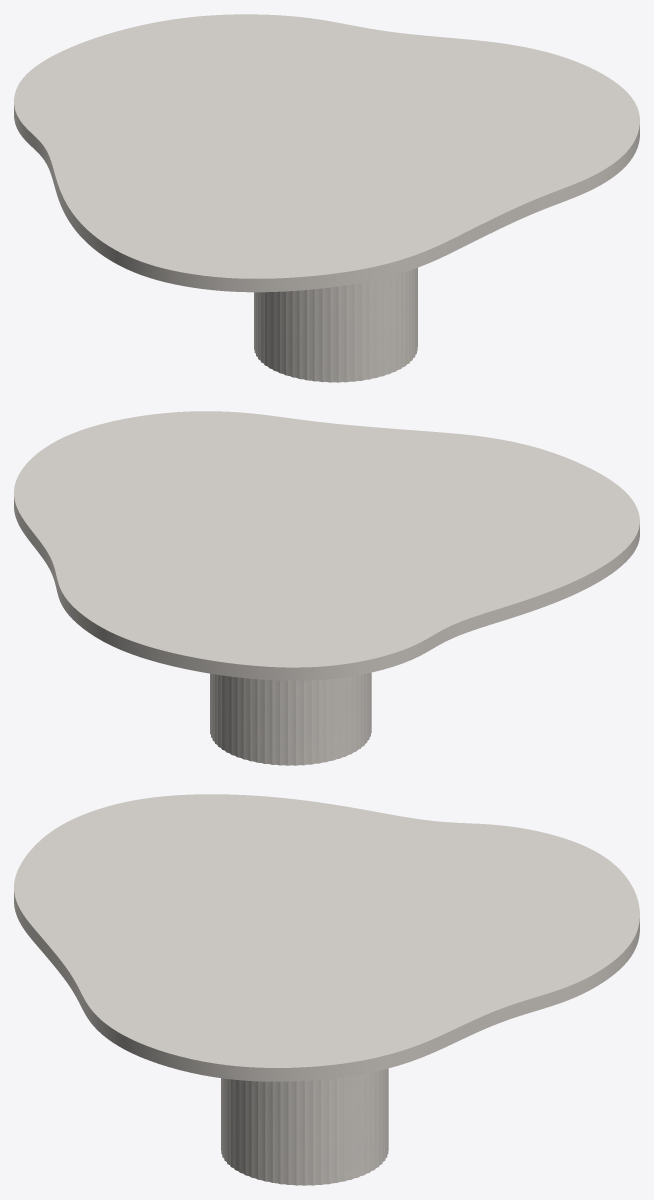
File: pearlwhite_topone_standard_ripple.glb
The picture shows the model from 3 angles, top to bottom: view 1: azimuth 30°, elevation 25°; view 2: azimuth 150°, elevation 25°; view 3: azimuth 270°, elevation 25°; orthographic projection. The views are drawn at different scales.
Parts seen in each view (by area): view 1: standard_topone, ripple; view 2: standard_topone, ripple; view 3: standard_topone, ripple.
Boxes of the visible parts, left/top/right/bottom form: standard_topone: left=14, top=14, right=639, bottom=292; ripple: left=254, top=267, right=417, bottom=382; standard_topone: left=14, top=411, right=639, bottom=680; ripple: left=210, top=672, right=371, bottom=765; standard_topone: left=14, top=794, right=639, bottom=1081; ripple: left=221, top=1068, right=388, bottom=1185.
Size of the model in its own units: 6.83 by 2.5 by 6.6.
1 material, 1 textured.
